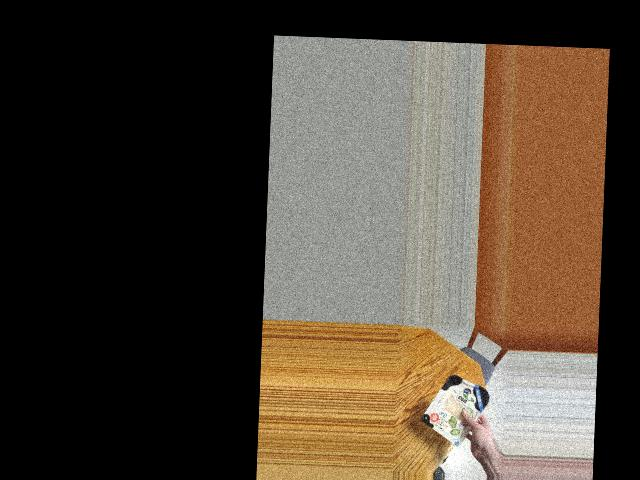cheese: (426, 368, 490, 438)
